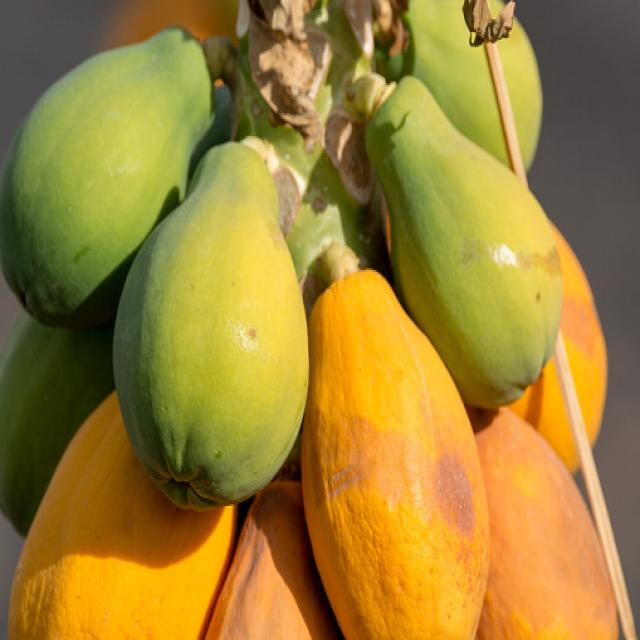Pepaya rippen: (308, 272, 472, 640), (11, 406, 233, 640), (480, 423, 619, 640)
Pepaya unrippen: (140, 146, 308, 486), (388, 90, 558, 390), (7, 36, 222, 262)
